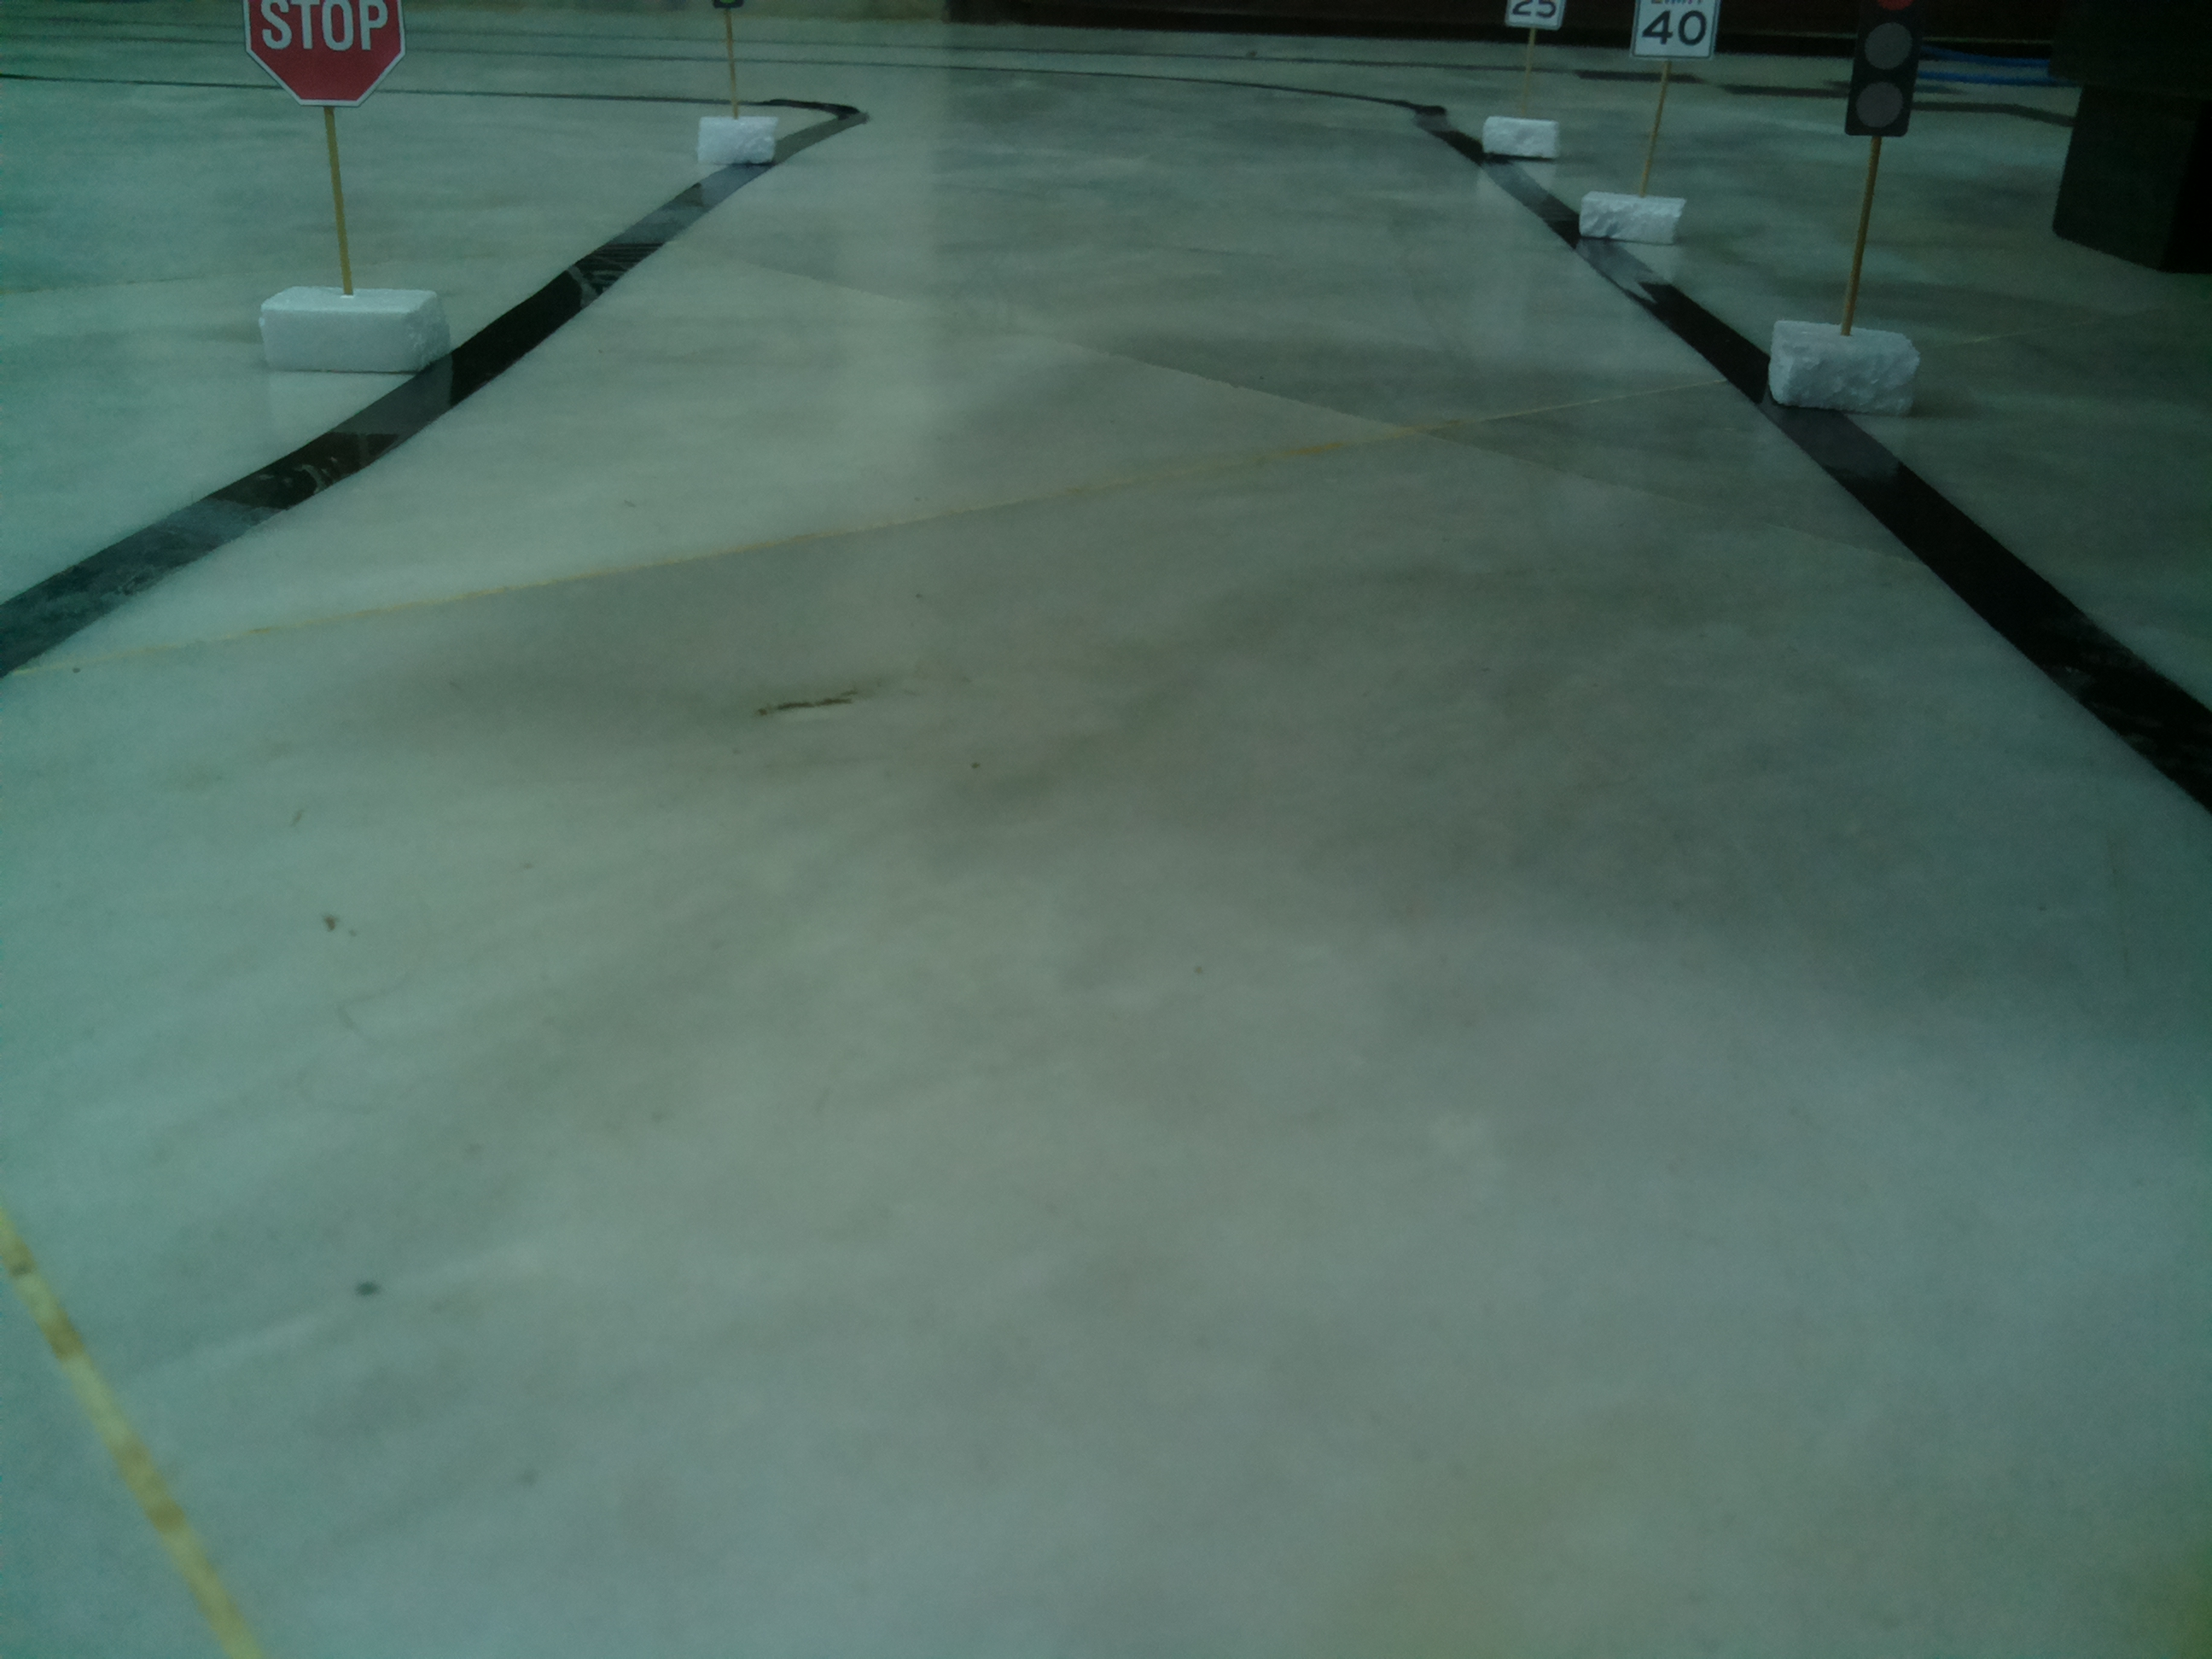Speed limit 25: (1503, 0, 1573, 31)
Speed limit 40: (1627, 2, 1728, 66)
Stop sign: (237, 0, 420, 108)
